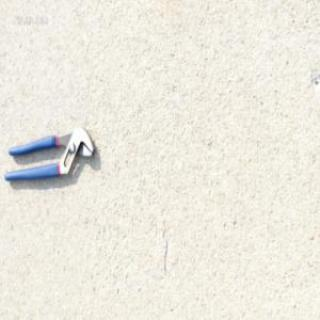Pliertrack_idkeyframe: (2, 124, 94, 182)
